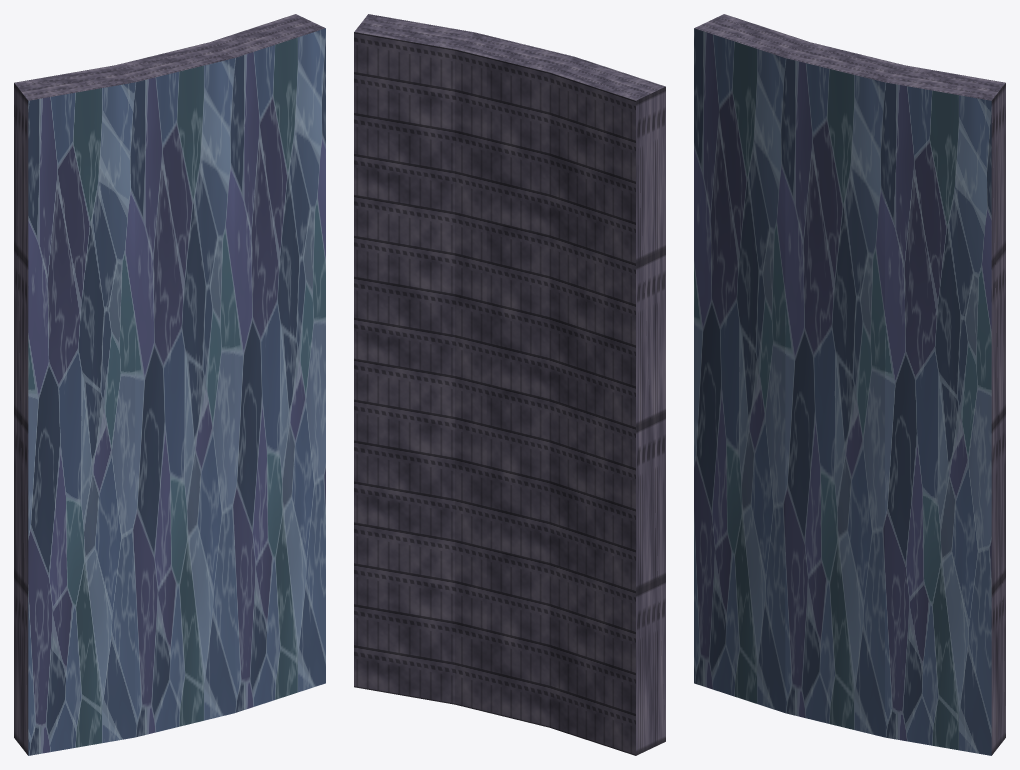
The model's file is Oracle_Hall_Wall_LOD2.gltf.
The picture shows the model from 3 angles, left to right: view 1: azimuth 30°, elevation 25°; view 2: azimuth 150°, elevation 25°; view 3: azimuth 330°, elevation 25°; orthographic projection.
Parts seen in each view (by area): view 1: Oracle_Hall_Wall_LOD2; view 2: Oracle_Hall_Wall_LOD2; view 3: Oracle_Hall_Wall_LOD2.
Part boxes in pixels (x1,y1,x2,y2): Oracle_Hall_Wall_LOD2: (14, 14, 325, 755); Oracle_Hall_Wall_LOD2: (354, 14, 665, 755); Oracle_Hall_Wall_LOD2: (694, 14, 1005, 755).
Bounding box in the file's own units: 19.01 × 40 × 3.31.
2 materials, 2 textured.
